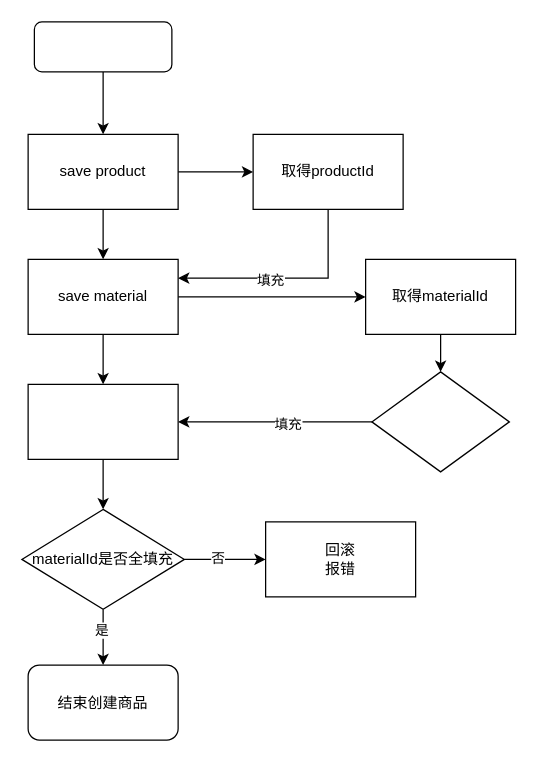
Image size: 538x763. Some labels were removed from this diagram. The shapes that lost their labels are listed below. From the top down, each one's box as (x1, y1, x2, y2) in pixels, then its label:
(33, 21, 172, 72): 开始创建商品
(27, 383, 178, 459): save product sale
(371, 371, 509, 472): spec是否相同
